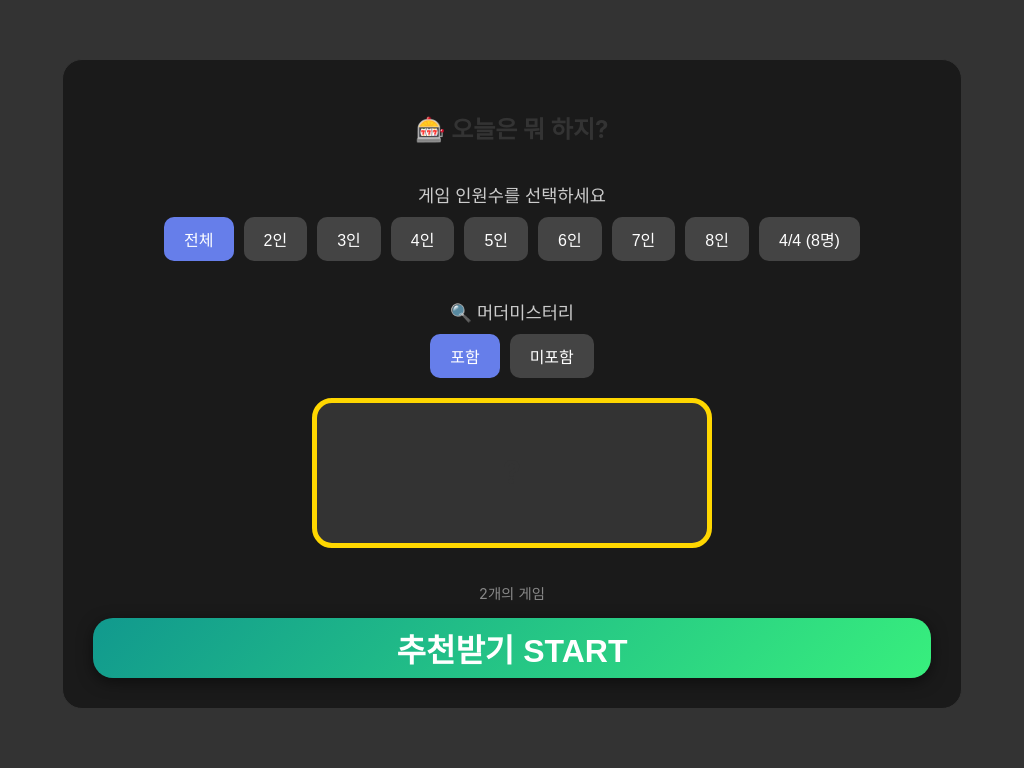
Test: RouletteModal verification follow-ups › 4/4 stays off when the only candidates are the same game listed twice
Click the button "4/4 (8명)".
click(810, 239)  # box [759,217,860,261]
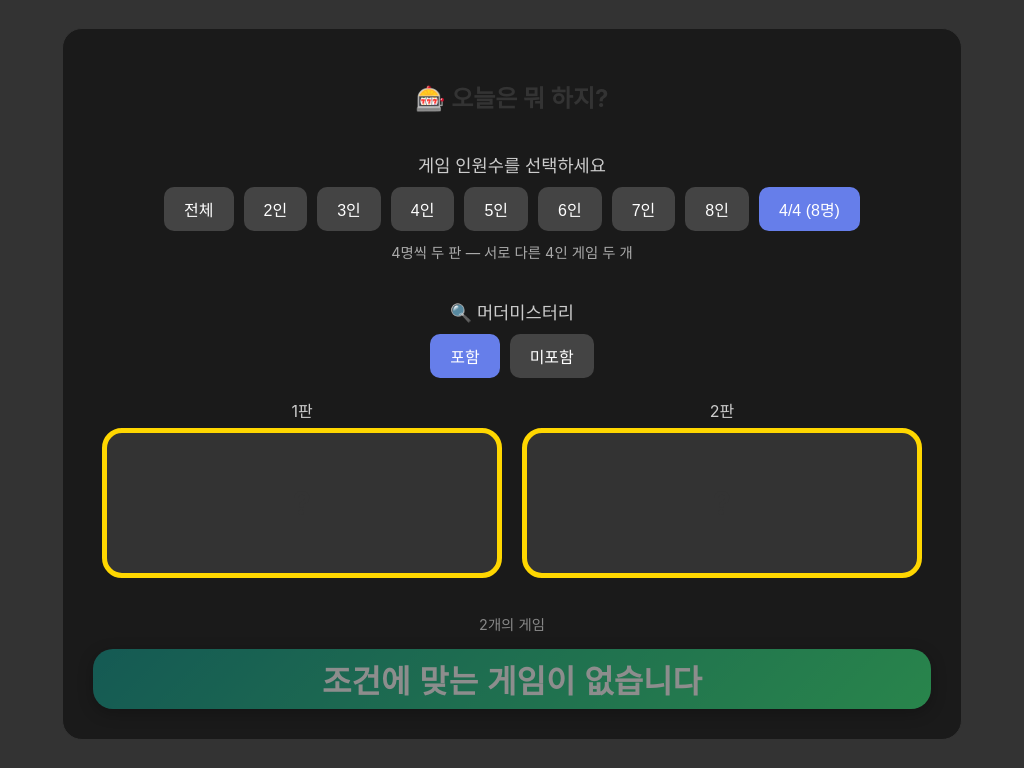
Result: the button "조건에 맞는 게임이 없습니다" is disabled at [93,649,931,709]
